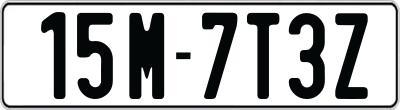1: (41, 9, 71, 102)
3: (287, 10, 324, 102)
5: (77, 11, 115, 101)
7: (202, 13, 240, 102)
M: (126, 13, 165, 101)
T: (245, 11, 280, 103)
Z: (332, 11, 366, 97)
